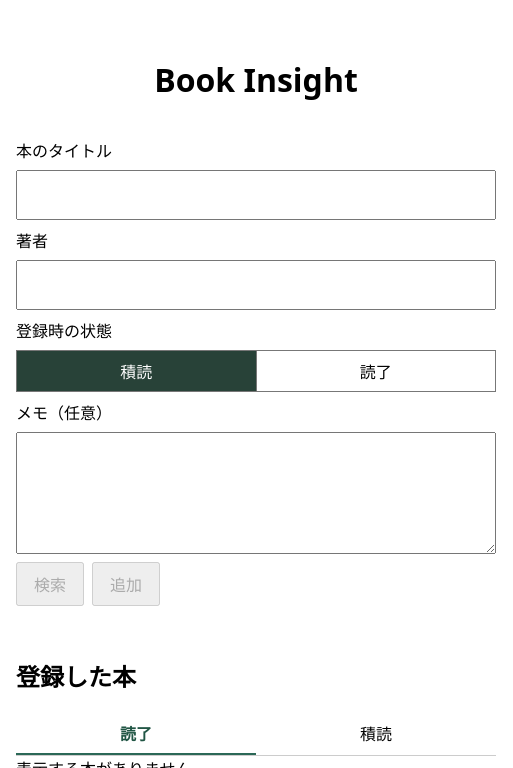
App › 登録後の一覧再取得が失敗しても二重登録せず再読み込みできる
The width and height of the screenshot is (513, 768).
Type "雪国" into the field labelled "本のタイトル" at (256, 195), box [16,170,496,220]
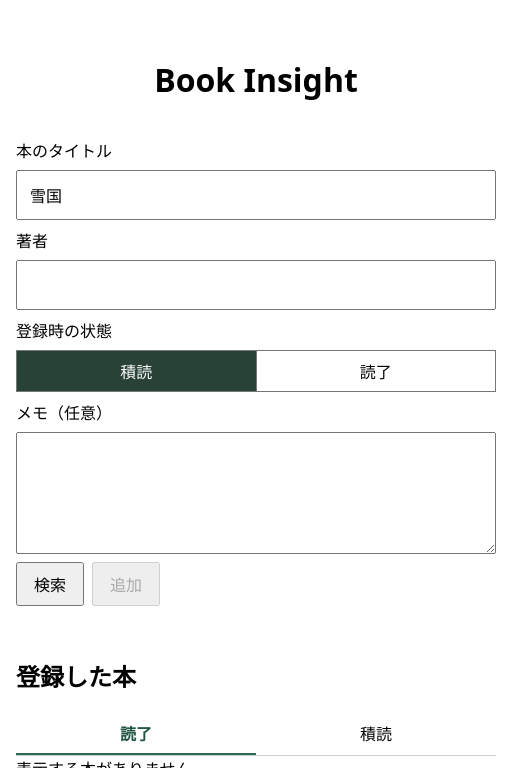
Type "川端康成" into the field labelled "著者" at (256, 285), box [16,260,496,310]
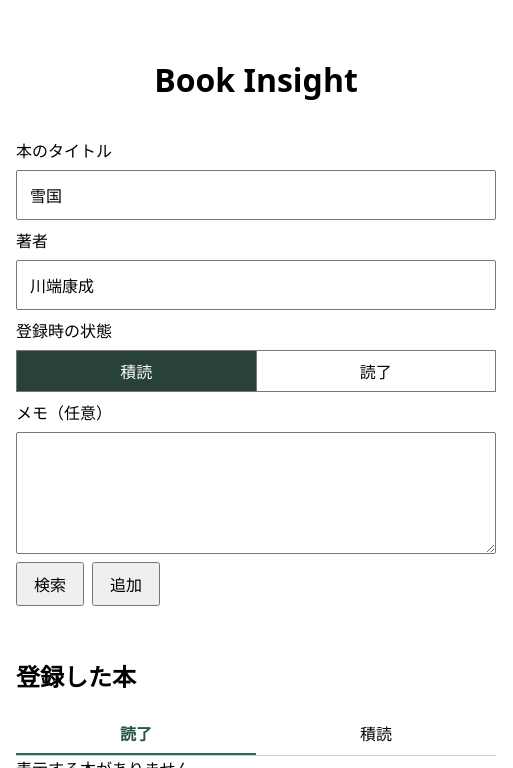
Click the button "追加" at (126, 584), box [92,562,160,606]
(page scrolled)
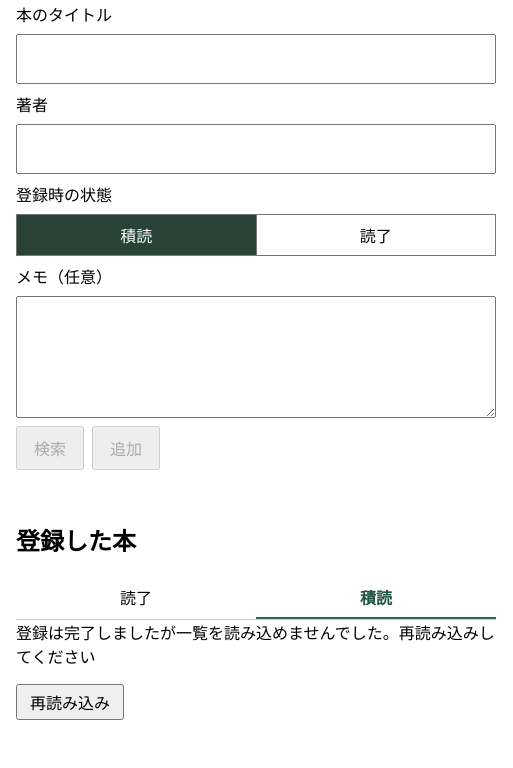
Expected: the message shows "登録は完了しましたが一覧を読み込めませんでした", [16,622,495,668]
Expected: the field labelled "本のタイトル" is empty, [16,34,496,84]
Click the button "再読み込み" at (70, 702), box [16,684,124,720]
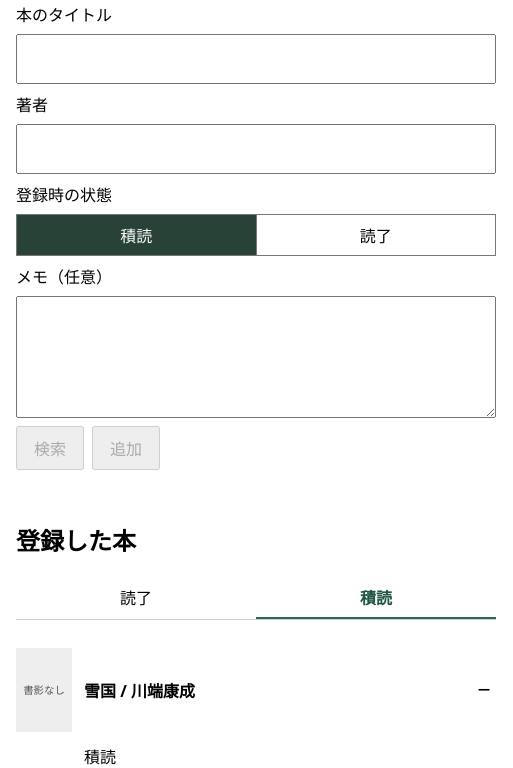
Expected: the text "雪国 / 川端康成" is shown, [84,680,195,702]
